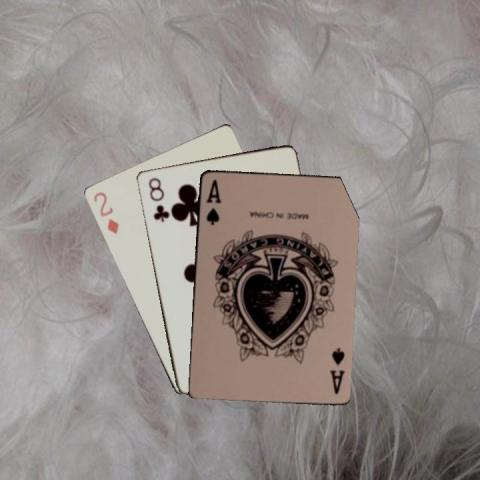2d: (90, 189, 120, 235)
8c: (144, 174, 168, 223)
As: (202, 176, 222, 227), (327, 344, 346, 396)
